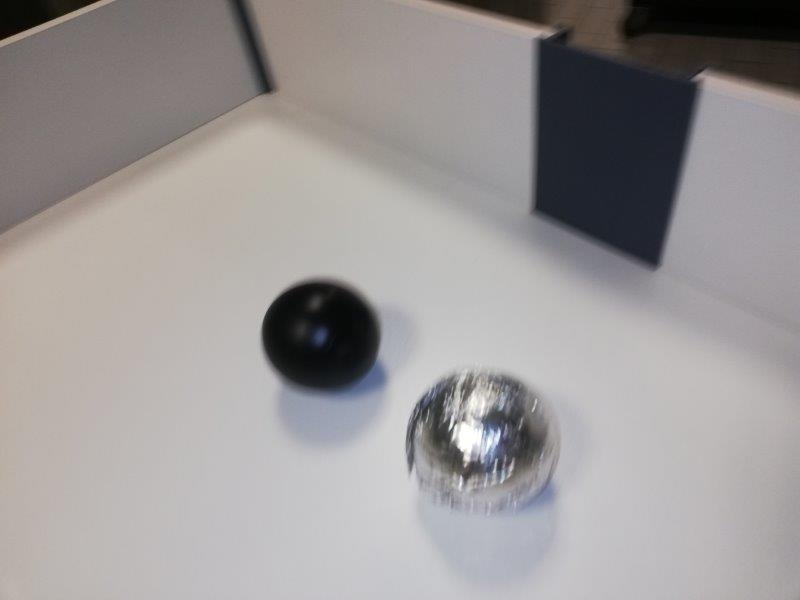bianca: (404, 369, 561, 513)
nera: (262, 279, 381, 393)
